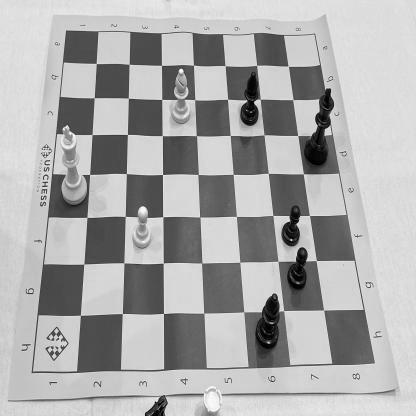black-bishop: (252, 287, 283, 356), (238, 67, 262, 129)
black-king: (302, 83, 338, 171)
black-pawn: (285, 245, 311, 293), (278, 203, 303, 250)
white-bishop: (166, 63, 196, 130)
white-king: (58, 119, 90, 211)
white-pawn: (130, 200, 154, 251)
